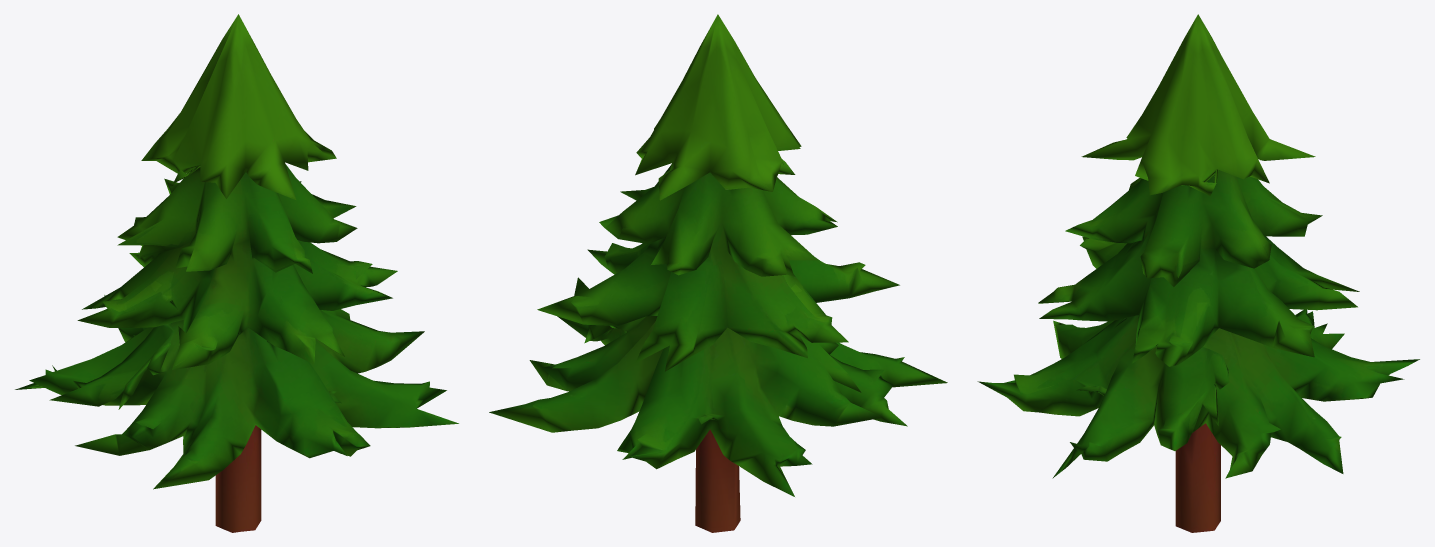
The model's file is pinetree.glb.
3 views of the same model, side by side, from view 1: azimuth 30°, elevation 25°; view 2: azimuth 150°, elevation 25°; view 3: azimuth 270°, elevation 25° (orthographic).
Visible parts, largest first — view 1: tripo_node_47740811-6950-45bd-8db6-a85558e4277f; view 2: tripo_node_47740811-6950-45bd-8db6-a85558e4277f; view 3: tripo_node_47740811-6950-45bd-8db6-a85558e4277f.
Part boxes in pixels (x1,y1,x2,y2): tripo_node_47740811-6950-45bd-8db6-a85558e4277f: [15, 14, 458, 532]; tripo_node_47740811-6950-45bd-8db6-a85558e4277f: [489, 14, 947, 532]; tripo_node_47740811-6950-45bd-8db6-a85558e4277f: [977, 14, 1419, 532].
Size of the model in its own units: 0.709 by 0.979 by 0.7714.
1 material, 1 textured.
